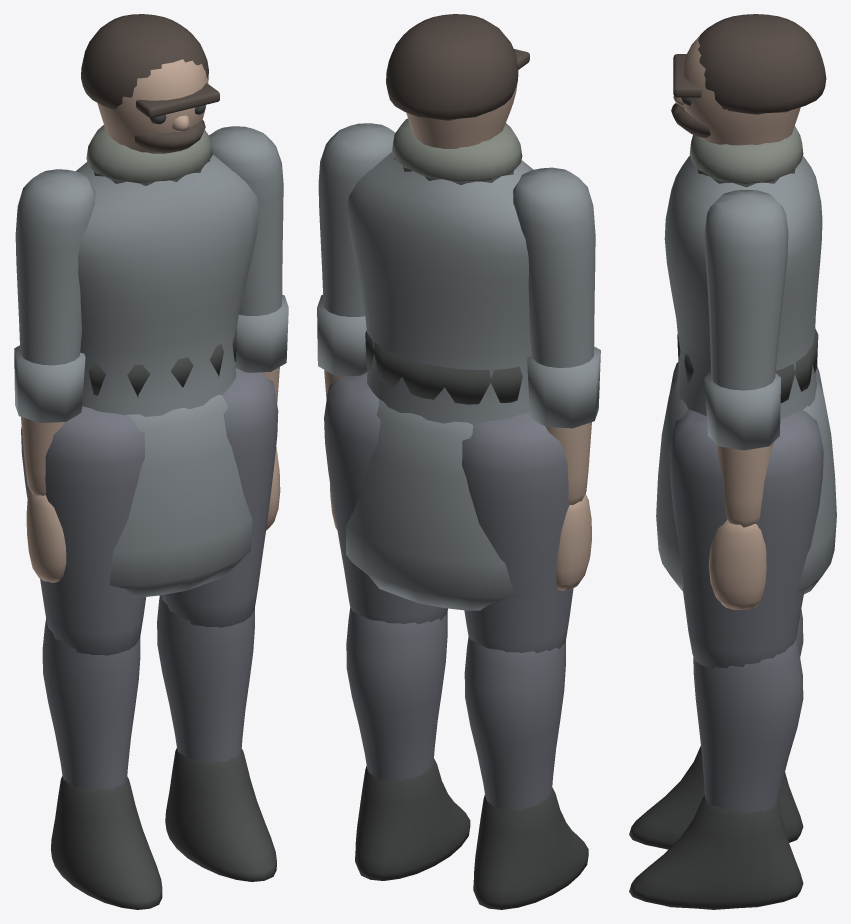
The model's file is resident_c_v5.glb.
3 renders of one model, left to right at view 1: azimuth 30°, elevation 25°; view 2: azimuth 150°, elevation 25°; view 3: azimuth 270°, elevation 25°, orthographic. The views are drawn at different scales.
Visible parts, largest first — view 1: Resident_Torso, Resident_CoatSkirt, Resident_Leg_-1, Resident_Arm_-1, Resident_Shin_-1, Resident_Shin_1, Resident_Boot_-1, Resident_Boot_1, Resident_Leg_1, Resident_Arm_1, Resident_Hair, Resident_Head (+9 smaller); view 2: Resident_Torso, Resident_CoatSkirt, Resident_Leg_-1, Resident_Shin_1, Resident_Shin_-1, Resident_Arm_-1, Resident_Hair, Resident_Boot_-1, Resident_Boot_1, Resident_Leg_1, Resident_Arm_1, Resident_Belt (+6 smaller); view 3: Resident_Leg_1, Resident_Torso, Resident_Arm_1, Resident_Shin_1, Resident_Boot_1, Resident_Hair, Resident_CoatSkirt, Resident_Cuff_1, Resident_Hand_1, Resident_Boot_-1, Resident_Head, Resident_Scarf (+4 smaller).
Boxes of the visible parts, x1,y1,x2,y2 form: Resident_Torso: [76, 154, 259, 416]; Resident_CoatSkirt: [109, 394, 252, 597]; Resident_Leg_-1: [21, 406, 145, 655]; Resident_Arm_-1: [15, 169, 95, 365]; Resident_Shin_-1: [42, 618, 140, 790]; Resident_Shin_1: [157, 595, 254, 762]; Resident_Boot_-1: [51, 776, 162, 909]; Resident_Boot_1: [165, 748, 276, 881]; Resident_Leg_1: [161, 368, 278, 627]; Resident_Arm_1: [209, 126, 283, 316]; Resident_Hair: [81, 14, 208, 109]; Resident_Head: [97, 59, 208, 153]; Resident_Torso: [347, 152, 533, 425]; Resident_CoatSkirt: [346, 398, 516, 610]; Resident_Leg_-1: [462, 412, 589, 653]; Resident_Shin_1: [346, 607, 447, 780]; Resident_Shin_-1: [464, 636, 565, 809]; Resident_Arm_-1: [513, 167, 595, 367]; Resident_Hair: [386, 14, 518, 120]; Resident_Boot_-1: [473, 788, 588, 909]; Resident_Boot_1: [355, 759, 470, 880]; Resident_Leg_1: [324, 372, 447, 624]; Resident_Arm_1: [318, 123, 395, 316]; Resident_Belt: [365, 331, 522, 404]; Resident_Leg_1: [669, 409, 823, 669]; Resident_Torso: [664, 156, 822, 418]; Resident_Arm_1: [704, 190, 788, 390]; Resident_Shin_1: [693, 638, 803, 812]; Resident_Boot_1: [629, 795, 803, 909]; Resident_Hair: [698, 14, 826, 114]; Resident_CoatSkirt: [656, 377, 836, 594]; Resident_Cuff_1: [704, 371, 781, 450]; Resident_Hand_1: [708, 520, 766, 609]; Resident_Boot_-1: [629, 746, 803, 849]; Resident_Head: [681, 36, 800, 145]; Resident_Scarf: [689, 125, 803, 184].
Size of the model in its own units: 0.5573 by 1.66 by 0.3699.
